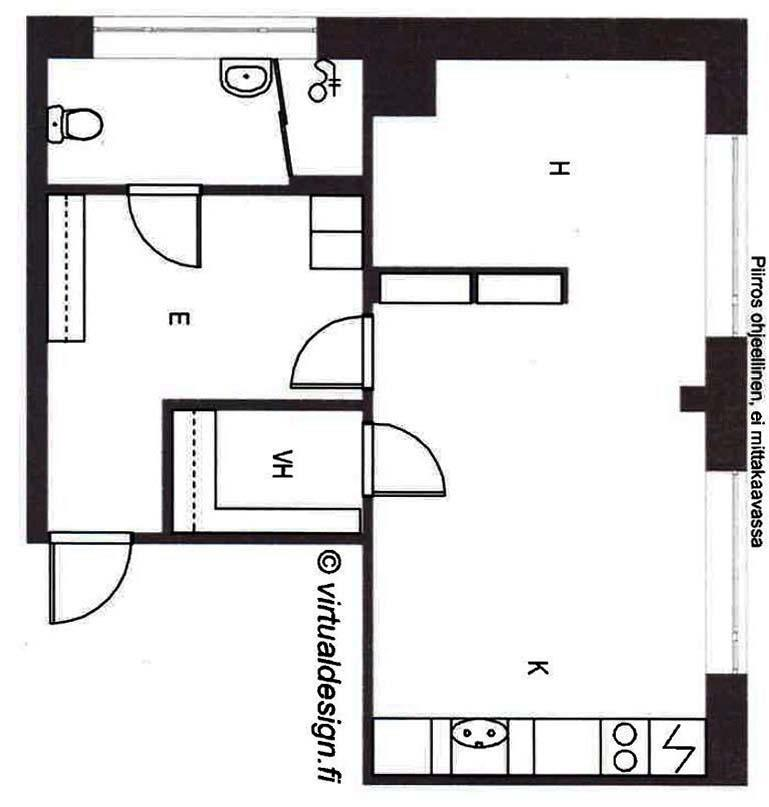bathroom: (46, 56, 286, 184)
door: (43, 528, 134, 630), (285, 310, 378, 393), (358, 419, 450, 502), (125, 181, 206, 273)
perimeter: (28, 15, 752, 787)
window: (84, 7, 324, 67), (700, 118, 752, 349), (700, 459, 754, 681)
